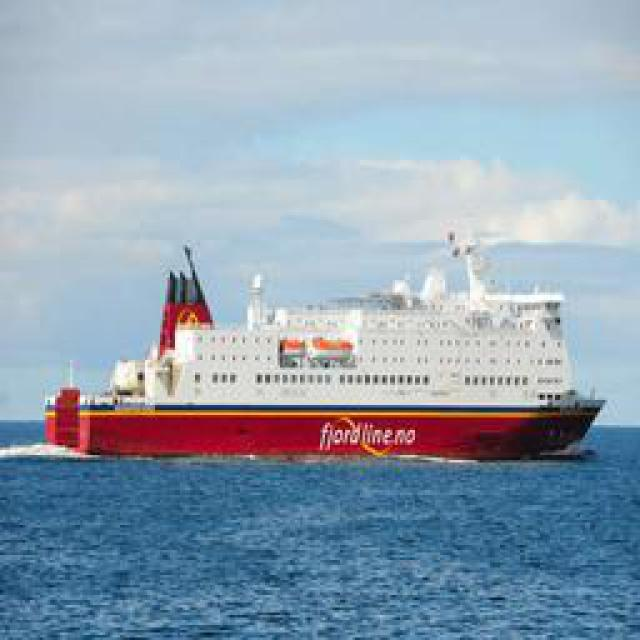Ship: (46, 230, 604, 460)
